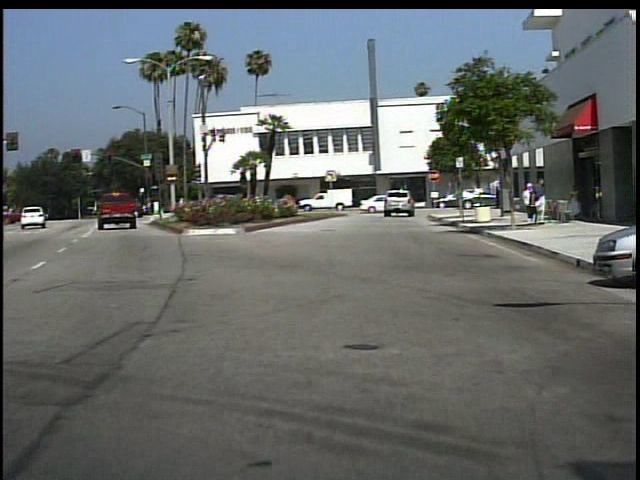person: (533, 178, 550, 228), (370, 189, 391, 218), (567, 183, 581, 223), (521, 181, 534, 222)
